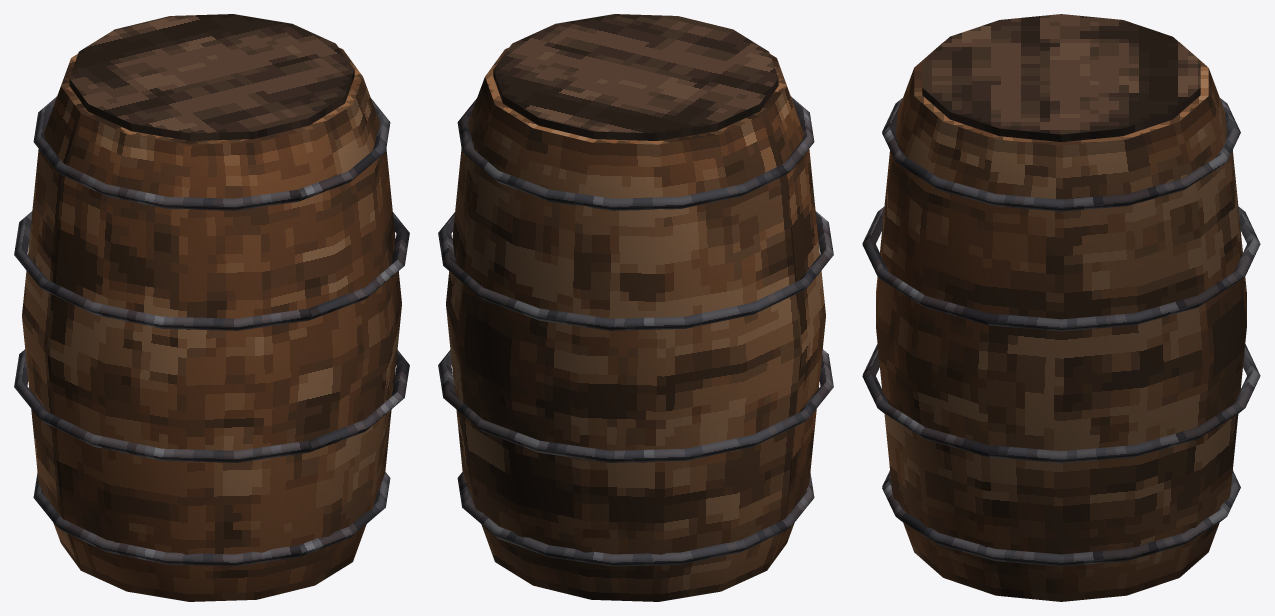
File: barrel.glb
The picture shows the model from 3 angles, left to right: view 1: azimuth 30°, elevation 25°; view 2: azimuth 150°, elevation 25°; view 3: azimuth 270°, elevation 25°; orthographic projection.
Parts seen in each view (by area): view 1: barrel; view 2: barrel; view 3: barrel.
Part boxes in pixels (x1,y1,x2,y2): barrel: (14, 14, 409, 601); barrel: (438, 14, 833, 601); barrel: (862, 14, 1260, 601).
Bounding box in the file's own units: 0.712 × 0.915 × 0.7118.
1 material, 1 textured.
